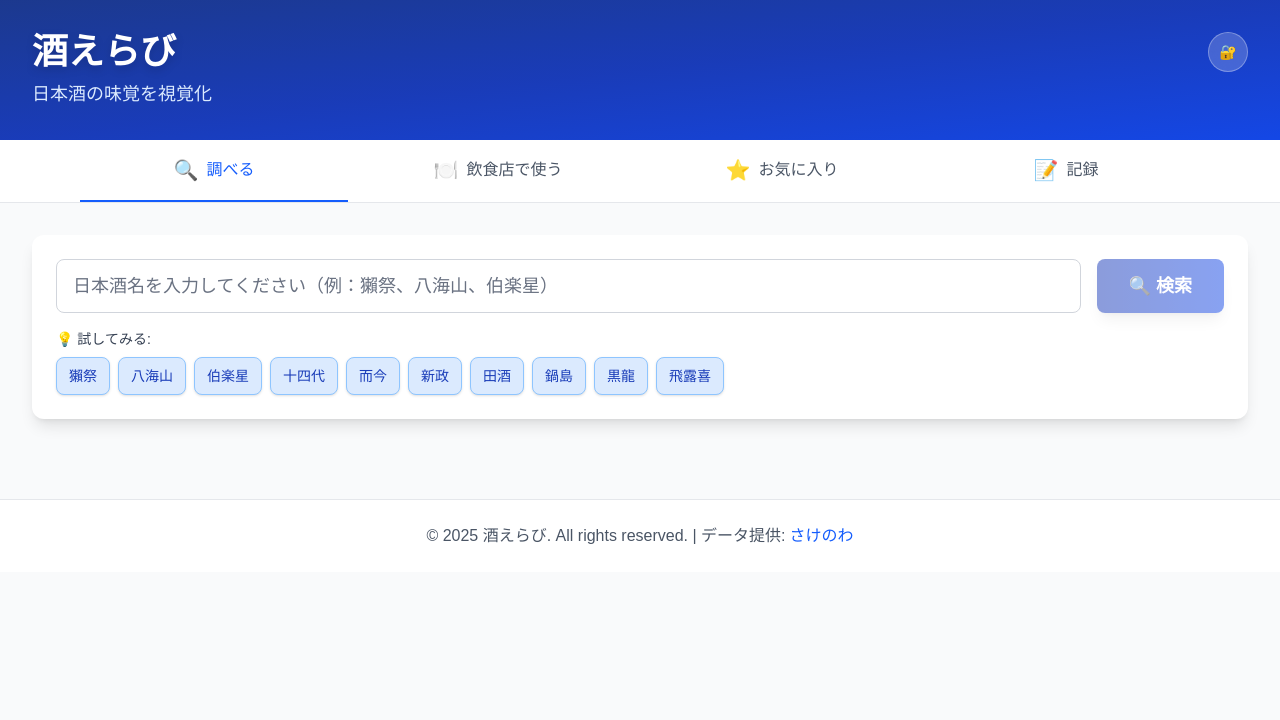
HomeClient search via Server Actions › 失敗: ダイアログに「検索中にエラーが発生しました」を表示
Type "エラー" into the field with placeholder "日本酒名を入力してください（例：獺祭、八海山、伯楽星）" at (568, 286), box [56, 259, 1080, 313]
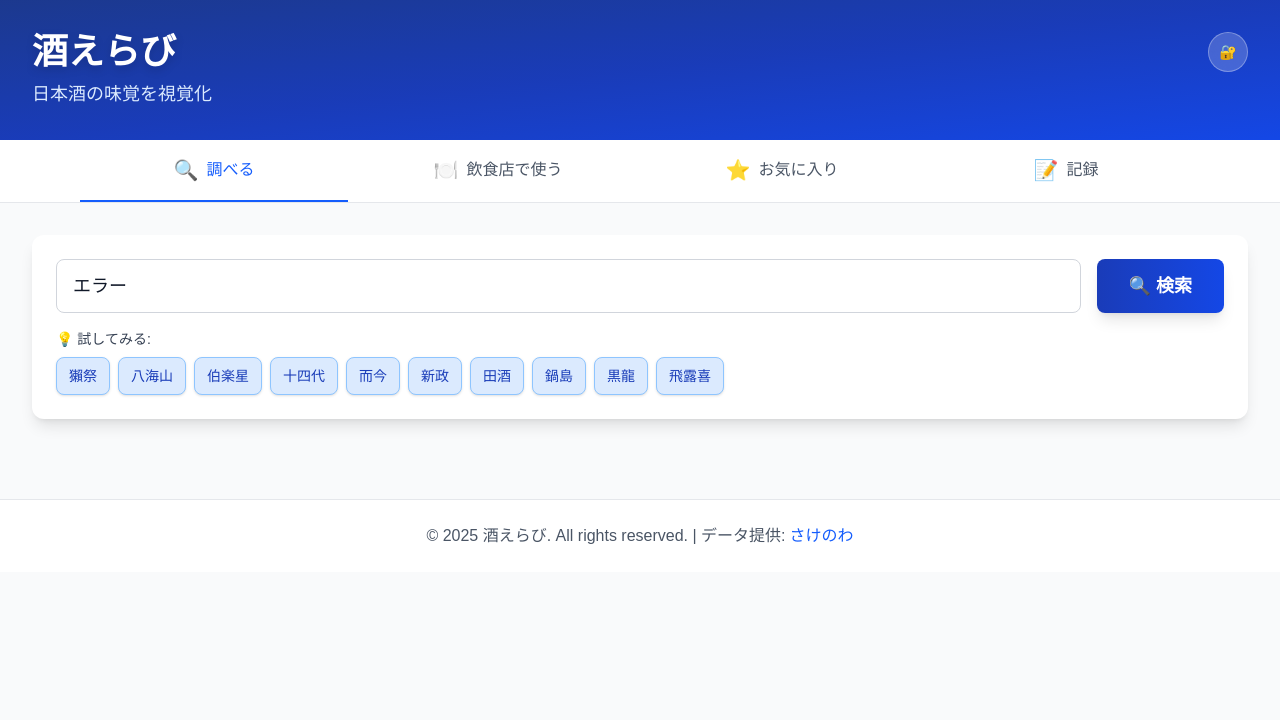
Click the button "🔍 検索" at (1160, 286), box [1096, 259, 1224, 313]
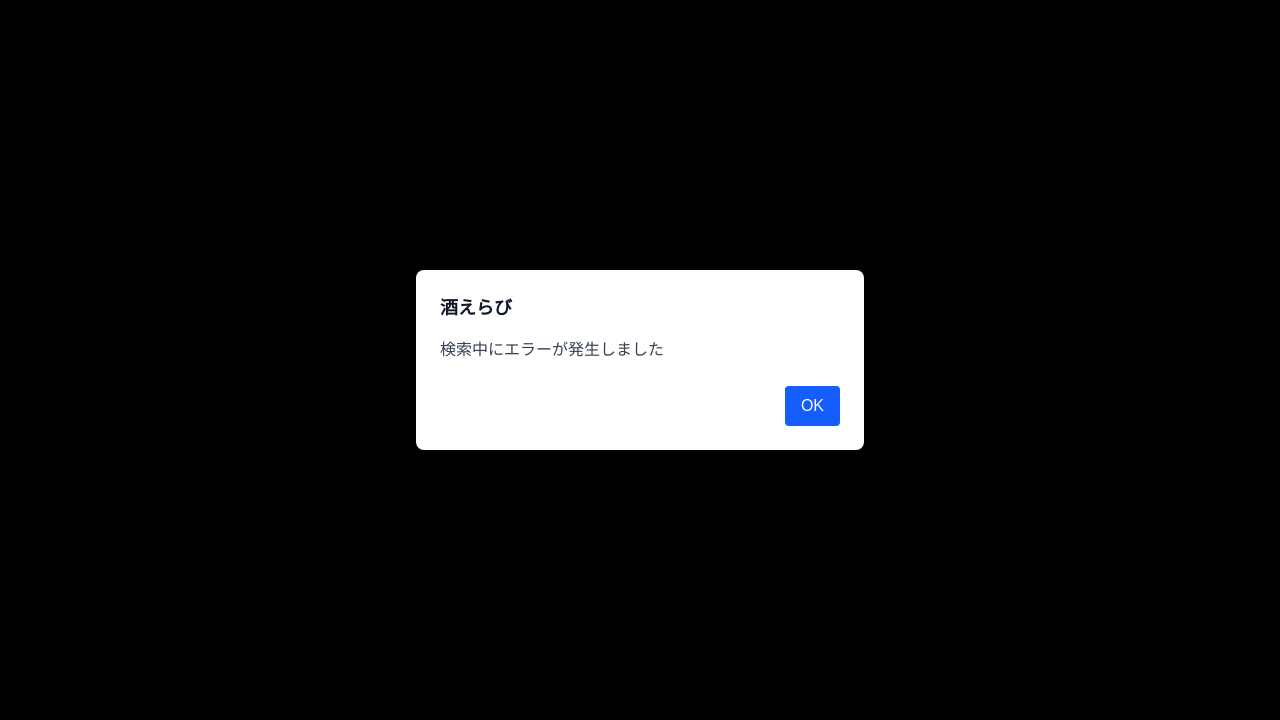
Result: the text "検索中にエラーが発生しました" is shown at [440, 341, 664, 358]
